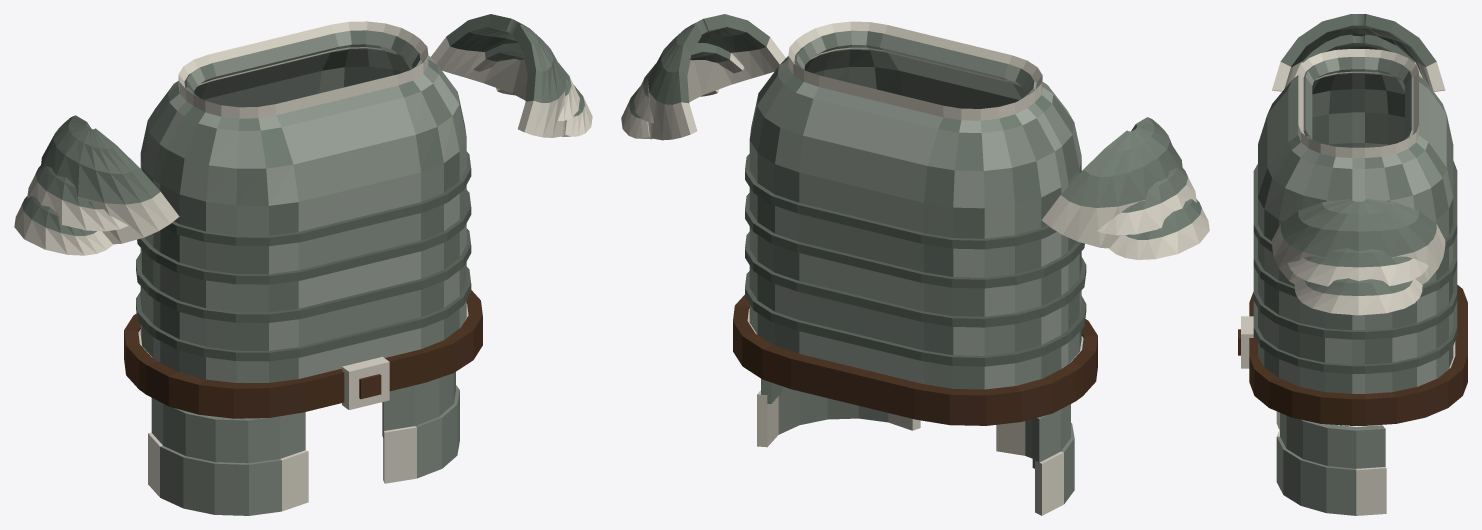
Rendered from armor_body_scale.glb.
3 views of the same model, side by side, from view 1: azimuth 30°, elevation 25°; view 2: azimuth 150°, elevation 25°; view 3: azimuth 270°, elevation 25° (orthographic). The views are drawn at different scales.
Parts seen in each view (by area): view 1: armor_body_scale, armor_body_scale_tasset_R, armor_body_scale_belt, armor_body_scale_pauldron_R, armor_body_scale_pauldron_L, armor_body_scale_tasset_L; view 2: armor_body_scale, armor_body_scale_belt, armor_body_scale_pauldron_R, armor_body_scale_pauldron_L, armor_body_scale_tasset_R, armor_body_scale_tasset_L; view 3: armor_body_scale, armor_body_scale_pauldron_L, armor_body_scale_tasset_L, armor_body_scale_belt, armor_body_scale_pauldron_R.
Boxes of the visible parts, x1=… form: armor_body_scale: x1=136, y1=21, x2=471, y2=382; armor_body_scale_tasset_R: x1=148, y1=398, x2=308, y2=515; armor_body_scale_belt: x1=124, y1=290, x2=482, y2=418; armor_body_scale_pauldron_R: x1=14, y1=115, x2=179, y2=255; armor_body_scale_pauldron_L: x1=431, y1=14, x2=592, y2=137; armor_body_scale_tasset_L: x1=382, y1=372, x2=459, y2=483; armor_body_scale: x1=745, y1=21, x2=1086, y2=389; armor_body_scale_belt: x1=733, y1=295, x2=1097, y2=425; armor_body_scale_pauldron_R: x1=1042, y1=117, x2=1209, y2=259; armor_body_scale_pauldron_L: x1=621, y1=14, x2=785, y2=140; armor_body_scale_tasset_R: x1=996, y1=404, x2=1074, y2=515; armor_body_scale_tasset_L: x1=757, y1=379, x2=920, y2=447; armor_body_scale: x1=1253, y1=49, x2=1457, y2=393; armor_body_scale_pauldron_L: x1=1272, y1=199, x2=1445, y2=315; armor_body_scale_tasset_L: x1=1276, y1=413, x2=1386, y2=515; armor_body_scale_belt: x1=1238, y1=285, x2=1467, y2=425; armor_body_scale_pauldron_R: x1=1272, y1=14, x2=1445, y2=91.
Bounding box in the file's own units: 1.37 × 0.931 × 0.547.
